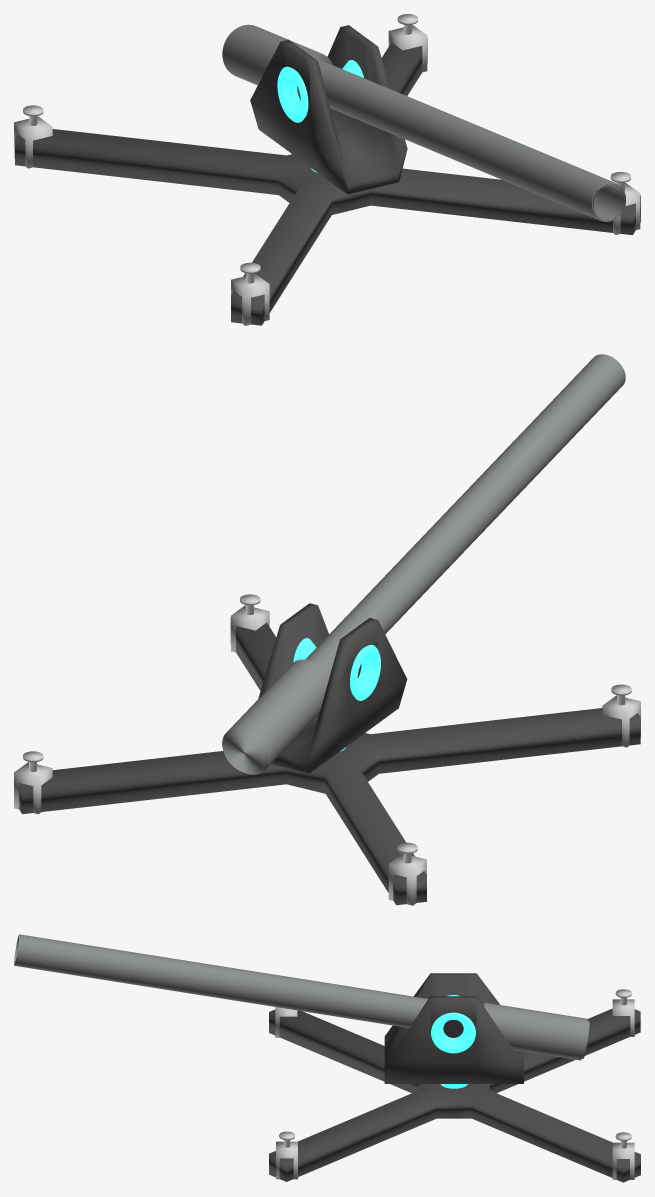
File: Cannon.fbx
3 renders of one model, top to bottom at view 1: azimuth 30°, elevation 25°; view 2: azimuth 150°, elevation 25°; view 3: azimuth 270°, elevation 25°, orthographic. The views are drawn at different scales.
Parts seen in each view (by area): view 1: Legs, Barrel, Frame, Feet, Barrel_Mount; view 2: Legs, Barrel, Frame, Feet, Barrel_Mount; view 3: Legs, Barrel, Frame, Feet, Barrel_Mount.
Boxes of the visible parts, x1=… form: Legs: x1=15, y1=38, x2=640, y2=325; Barrel: x1=222, y1=24, x2=625, y2=221; Frame: x1=250, y1=25, x2=407, y2=194; Feet: x1=14, y1=14, x2=640, y2=325; Barrel_Mount: x1=277, y1=60, x2=363, y2=122; Legs: x1=19, y1=618, x2=640, y2=905; Barrel: x1=222, y1=354, x2=625, y2=774; Frame: x1=258, y1=603, x2=407, y2=773; Feet: x1=14, y1=594, x2=640, y2=905; Barrel_Mount: x1=293, y1=638, x2=380, y2=700; Legs: x1=269, y1=1008, x2=640, y2=1182; Barrel: x1=14, y1=934, x2=589, y2=1060; Frame: x1=384, y1=973, x2=523, y2=1083; Feet: x1=275, y1=989, x2=634, y2=1179; Barrel_Mount: x1=431, y1=995, x2=475, y2=1053.
Bounding box in the file's own units: 536 × 266 × 900.
